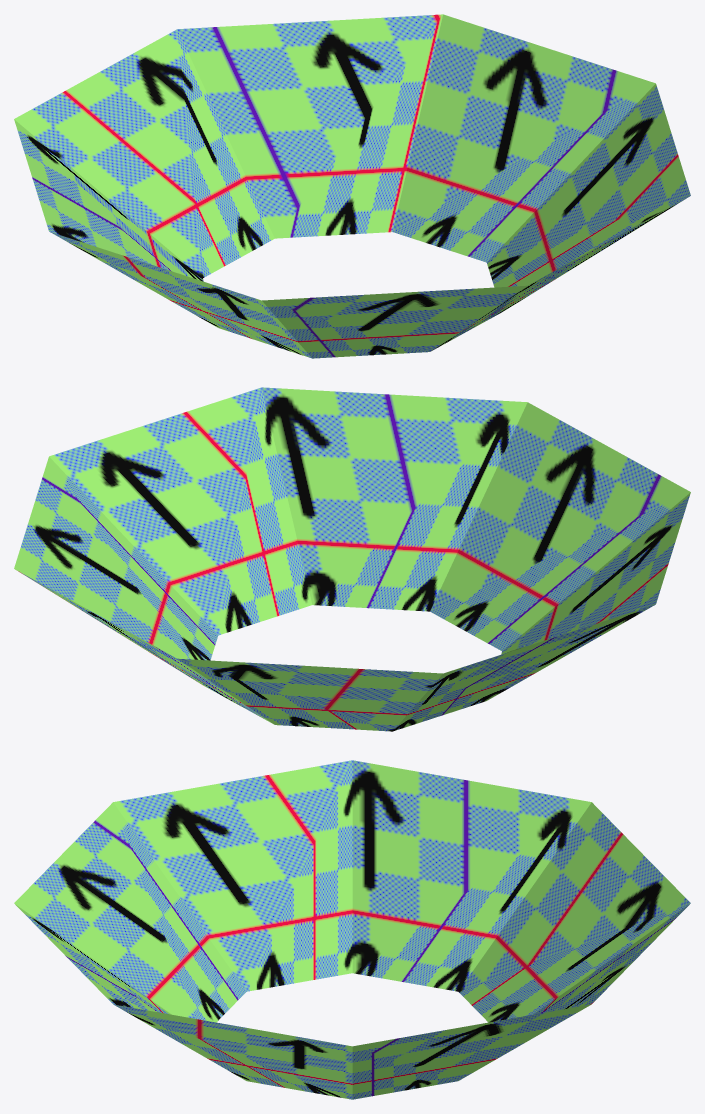
File: item_shine.obj
The picture shows the model from 3 angles, top to bottom: view 1: azimuth 30°, elevation 25°; view 2: azimuth 150°, elevation 25°; view 3: azimuth 270°, elevation 25°; orthographic projection. The views are drawn at different scales.
Parts seen in each view (by area): view 1: Circle; view 2: Circle; view 3: Circle.
Part boxes in pixels (bbox=[...]): Circle: bbox=[14, 14, 690, 358]; Circle: bbox=[14, 387, 690, 731]; Circle: bbox=[14, 760, 690, 1099].
Size of the model in its own units: 0.7979 by 0.1732 by 0.7979.
